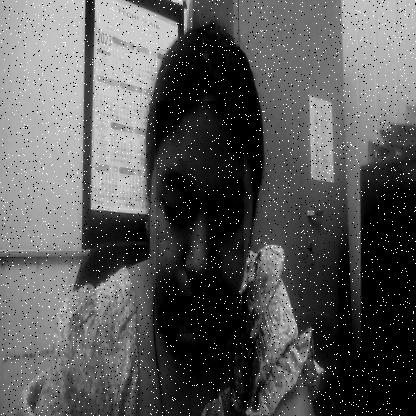Normal: (156, 101, 244, 334)
